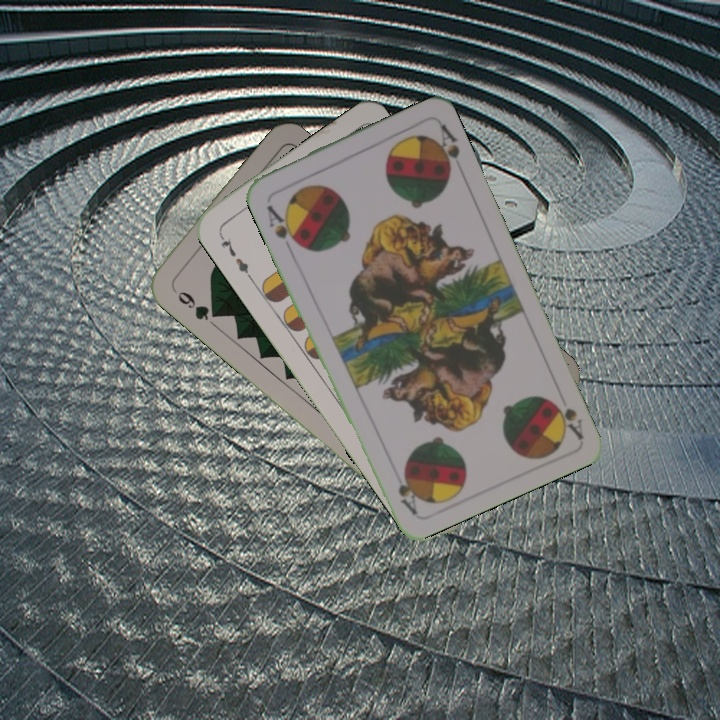E7: (215, 230, 254, 281)
G9: (173, 287, 222, 323)
SA: (262, 200, 302, 248), (545, 395, 586, 441)
